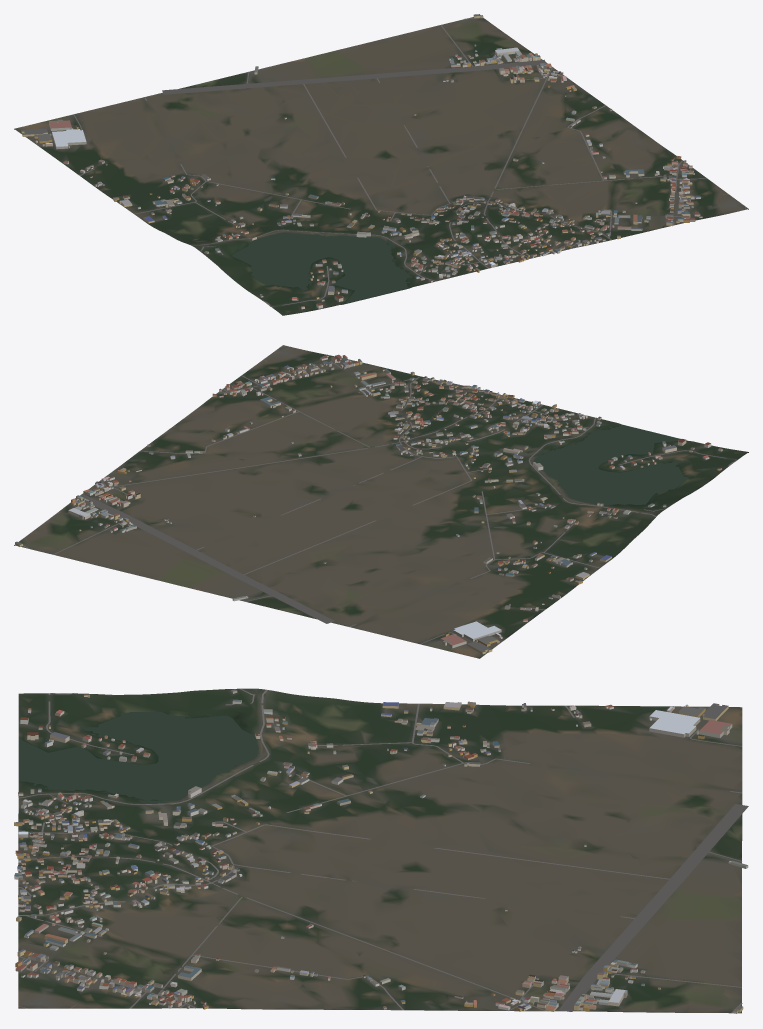
3 renders of one model, top to bottom at view 1: azimuth 30°, elevation 25°; view 2: azimuth 150°, elevation 25°; view 3: azimuth 270°, elevation 25°, orthographic. The views are drawn at different scales.
Visible parts, largest first — view 1: ground, buildings, water, roads; view 2: ground, buildings, water, roads; view 3: ground, buildings, water, roads.
Part boxes in pixels (x1,y1,x2,y2): ground: (14, 17, 748, 315); buildings: (21, 14, 702, 309); water: (232, 232, 411, 303); roads: (73, 17, 745, 307); ground: (14, 345, 748, 658); buildings: (15, 354, 722, 654); water: (534, 424, 688, 505); roads: (23, 346, 737, 644); ground: (18, 688, 742, 1013); buildings: (14, 689, 748, 1013); water: (19, 712, 258, 803); roads: (18, 688, 748, 1013).
Bounding box in the file's own units: 1411 × 44.95 × 1424.
